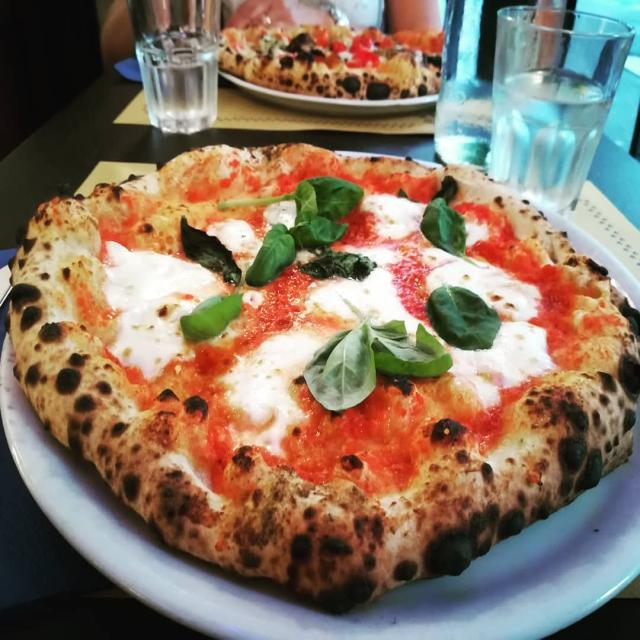basil: (304, 318, 452, 411), (426, 285, 502, 350), (181, 217, 241, 284), (245, 223, 296, 287), (420, 192, 466, 256), (180, 293, 242, 339), (306, 177, 364, 220), (299, 247, 376, 279), (289, 215, 347, 247), (219, 193, 295, 210), (295, 180, 319, 226), (443, 175, 456, 193)
pizza: (9, 145, 640, 612), (220, 25, 440, 100)
